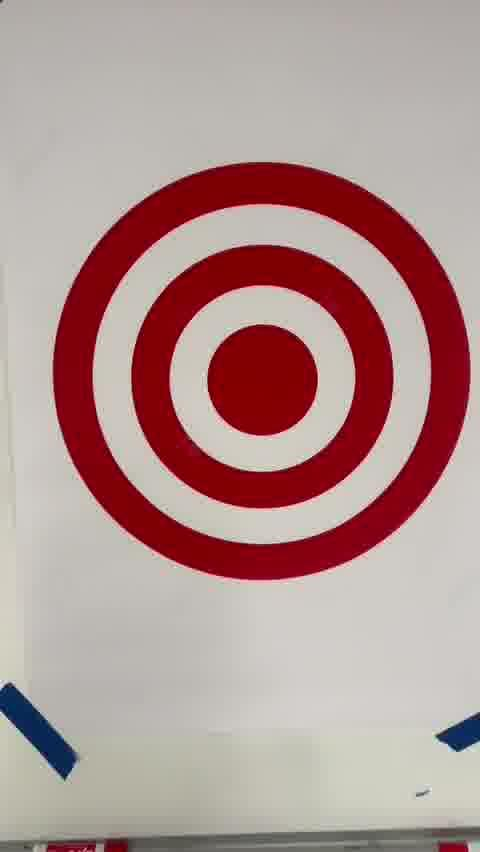target_red: (53, 160, 471, 579)
